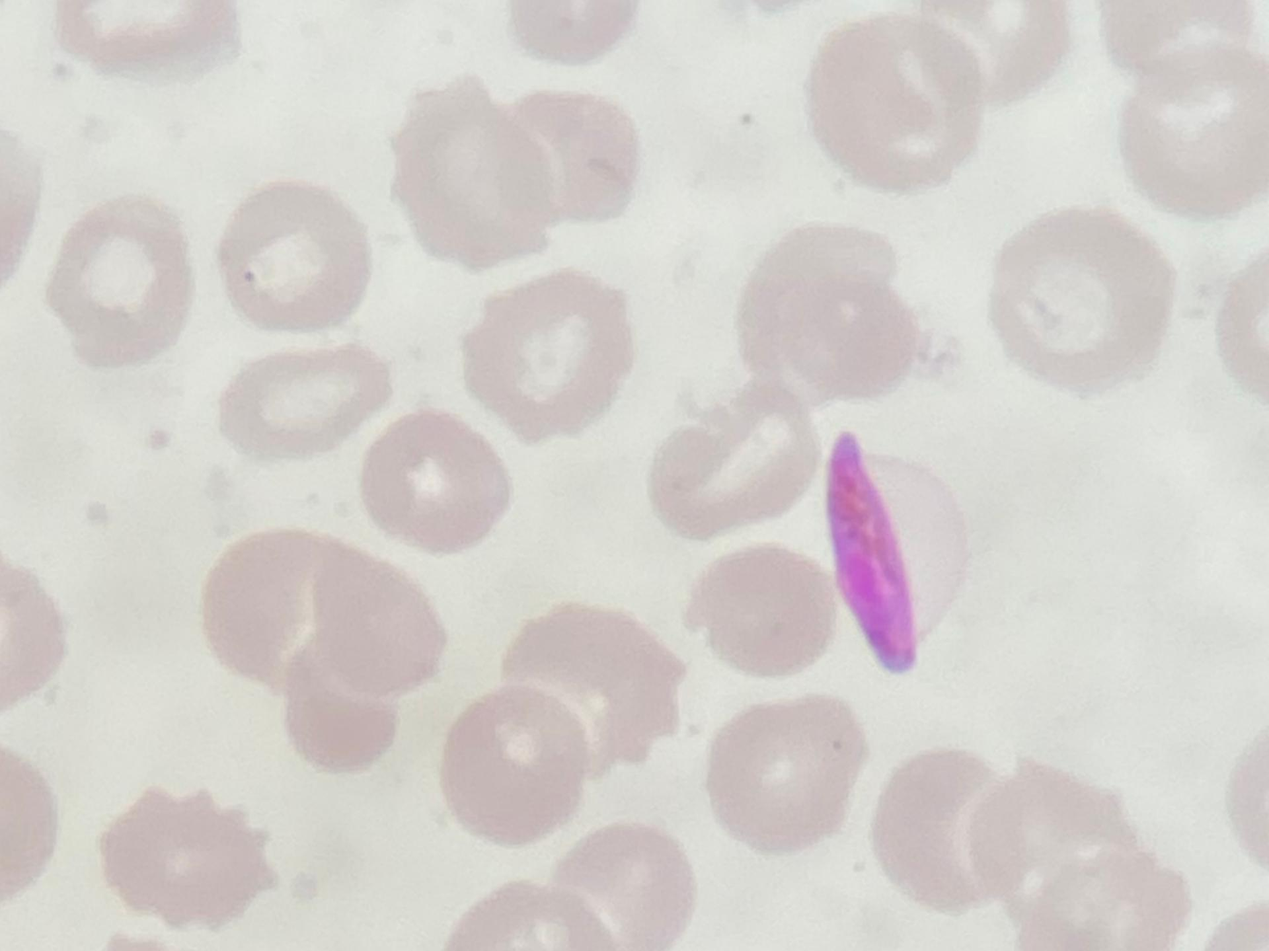Infected: (826, 428, 964, 674)
Uninfected: (740, 221, 925, 411), (986, 206, 1173, 391), (954, 762, 1163, 925), (388, 83, 570, 267), (495, 605, 685, 775), (806, 15, 988, 192), (458, 271, 634, 442), (198, 525, 362, 689), (650, 383, 823, 538), (1117, 46, 1269, 216), (702, 696, 866, 853), (99, 785, 275, 931), (45, 196, 197, 365), (439, 687, 598, 842), (217, 180, 374, 332), (868, 747, 1008, 913), (358, 409, 512, 554), (217, 342, 396, 463), (685, 545, 842, 676), (304, 560, 448, 693), (504, 91, 640, 229), (550, 822, 692, 950), (915, 3, 1075, 109), (286, 640, 402, 763)
